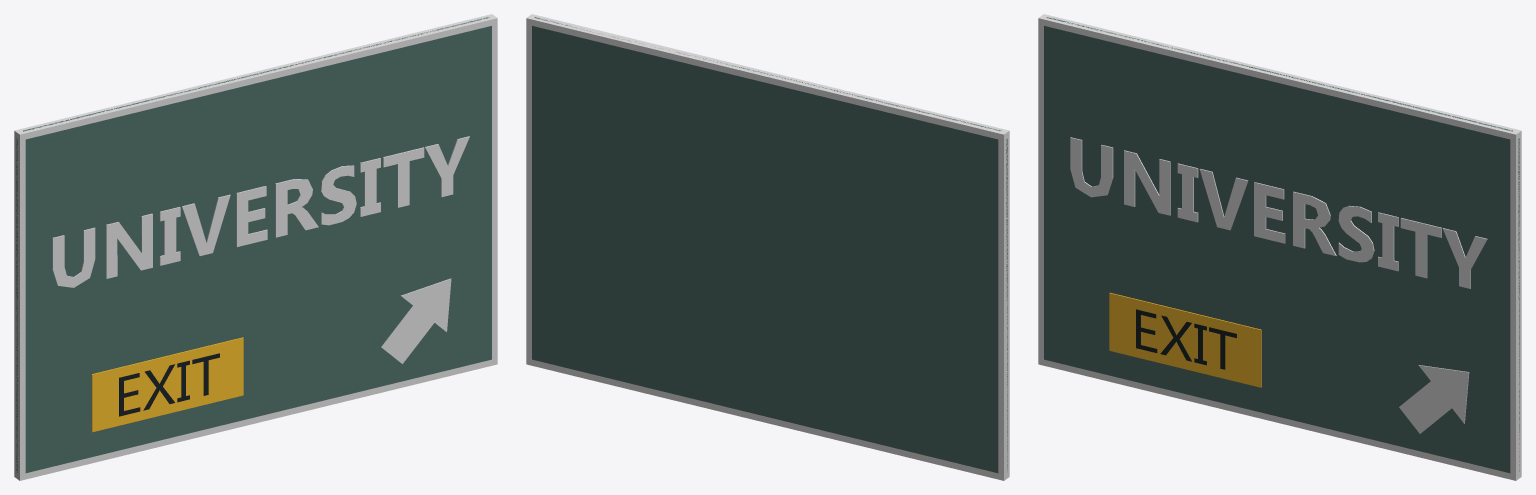
Rendered from SM_FloorProps_RoadSign_33.fbx.
The picture shows the model from 3 angles, left to right: view 1: azimuth 30°, elevation 25°; view 2: azimuth 150°, elevation 25°; view 3: azimuth 330°, elevation 25°; orthographic projection.
Visible parts, largest first — view 1: SM_FloorProps_RoadSign_33; view 2: SM_FloorProps_RoadSign_33; view 3: SM_FloorProps_RoadSign_33.
Part boxes in pixels (x1,y1,x2,y2): SM_FloorProps_RoadSign_33: [14, 14, 497, 480]; SM_FloorProps_RoadSign_33: [526, 14, 1009, 480]; SM_FloorProps_RoadSign_33: [1038, 14, 1521, 480].
Bounding box in the file's own units: 2.33 × 1.61 × 0.0552.
